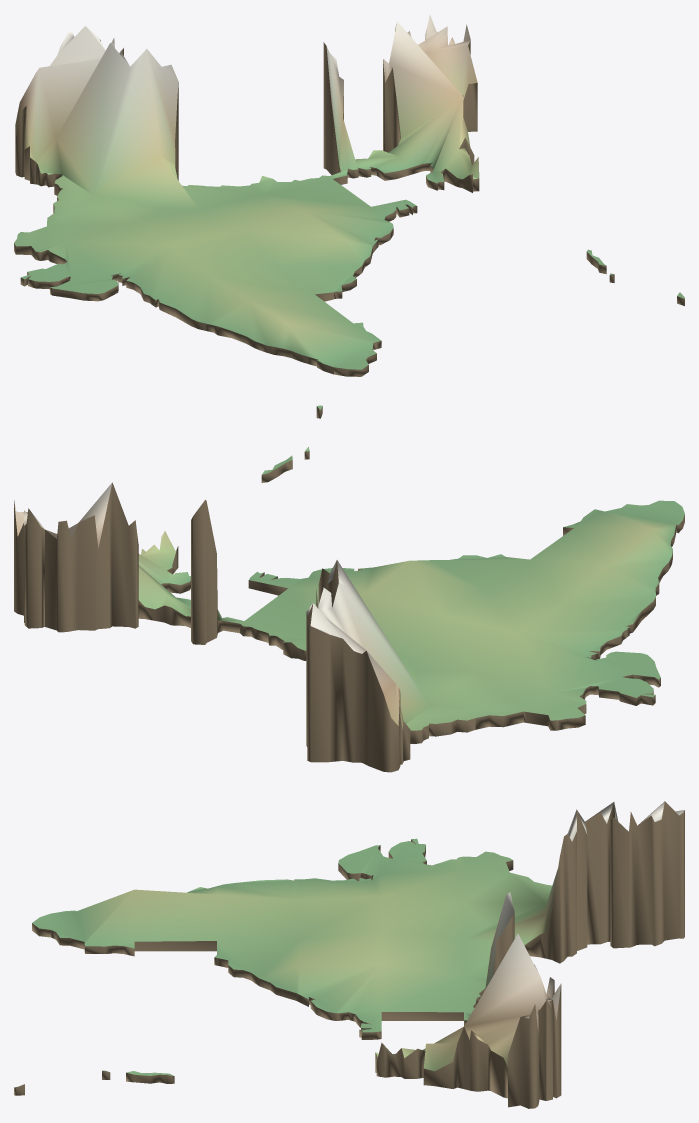
File: IND.glb
3 views of the same model, one above another, from view 1: azimuth 30°, elevation 25°; view 2: azimuth 150°, elevation 25°; view 3: azimuth 270°, elevation 25° (orthographic). The views are drawn at different scales.
Parts seen in each view (by area): view 1: IND; view 2: IND; view 3: IND.
Boxes of the visible parts, x1=… form: IND: x1=14, y1=15, x2=684, y2=376; IND: x1=14, y1=405, x2=684, y2=772; IND: x1=14, y1=801, x2=684, y2=1108.
Size of the model in its own units: 1.34 by 0.338 by 1.45.
